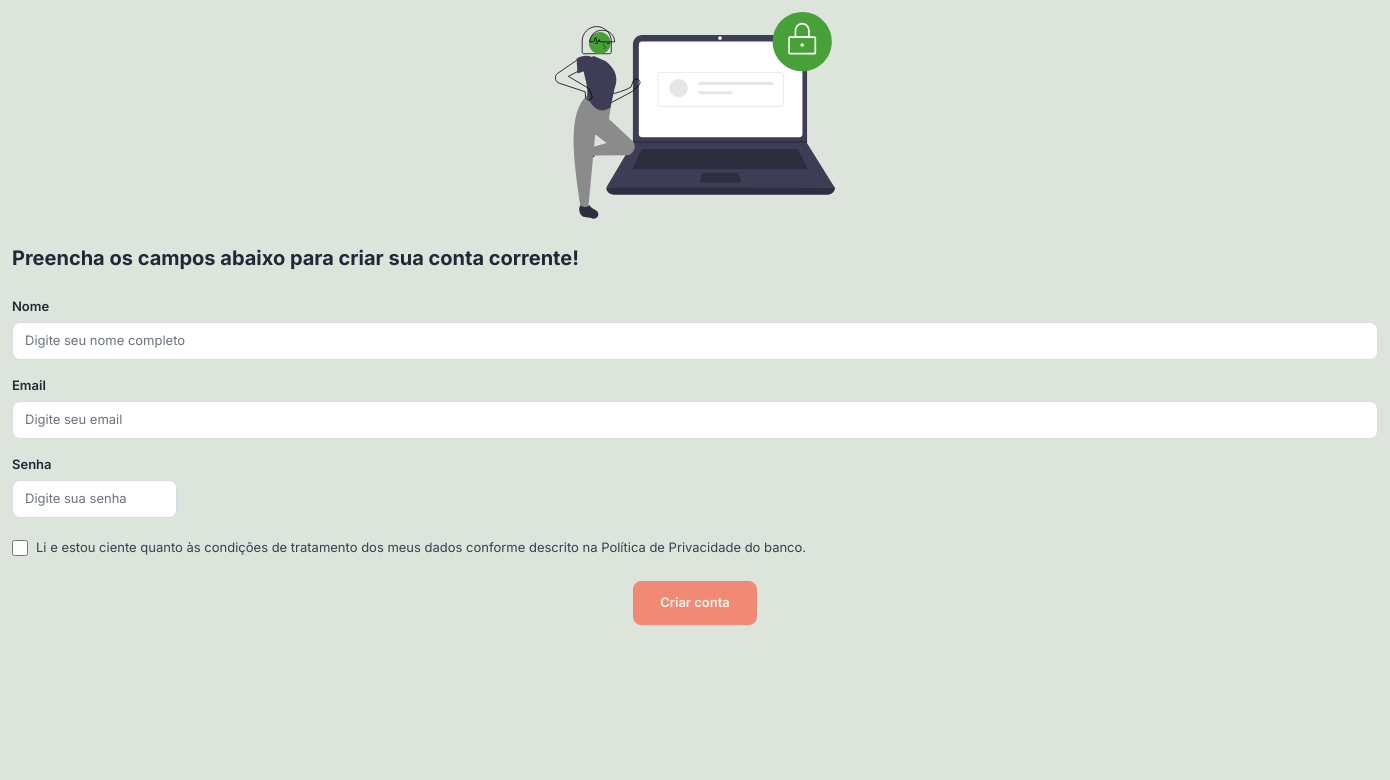
Test case: RegisterForm › envia register e mostra feedback de sucesso da API
The image size is (1390, 780).
In the field labelled "Nome": (695, 341) [12,322,1378,360], type "Maria Silva"
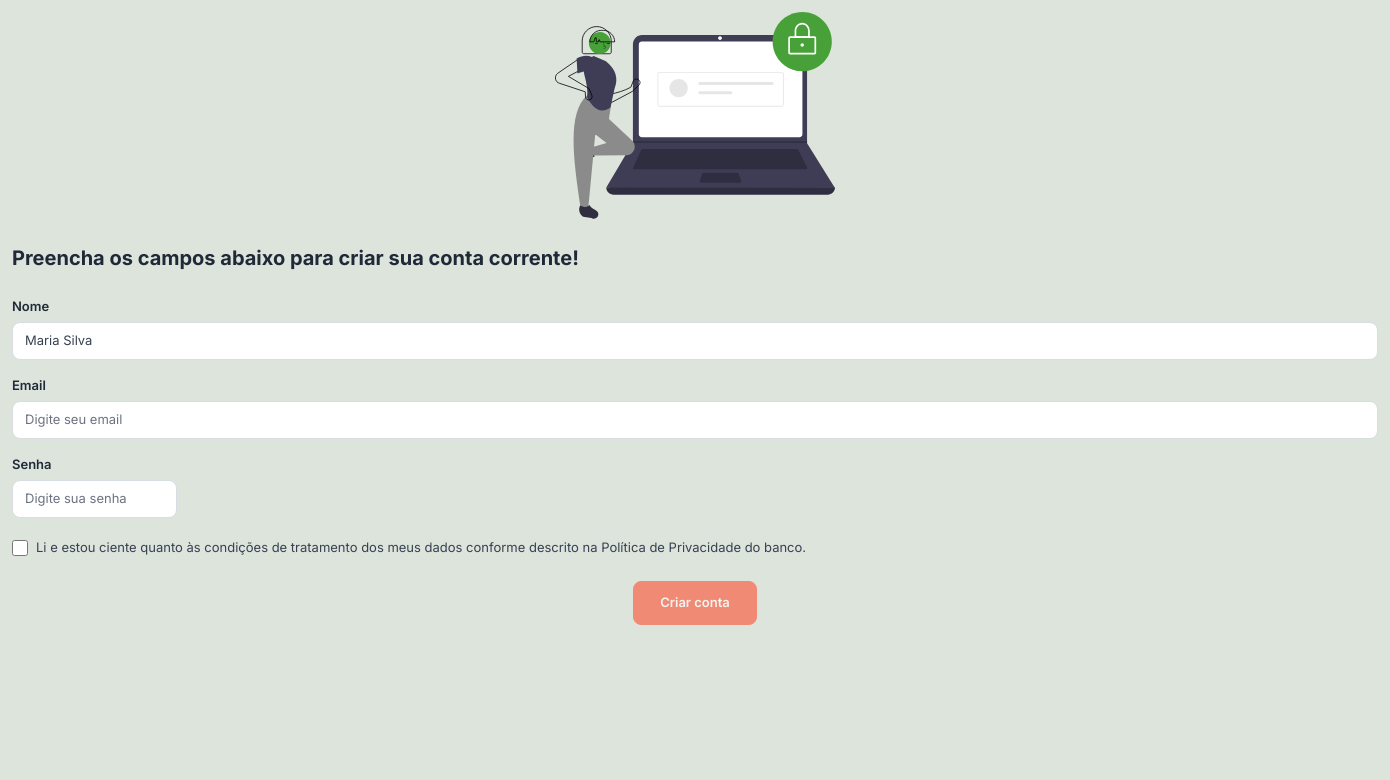
In the field labelled "Email": (695, 420) [12,401,1378,439], type "maria@mail.com"
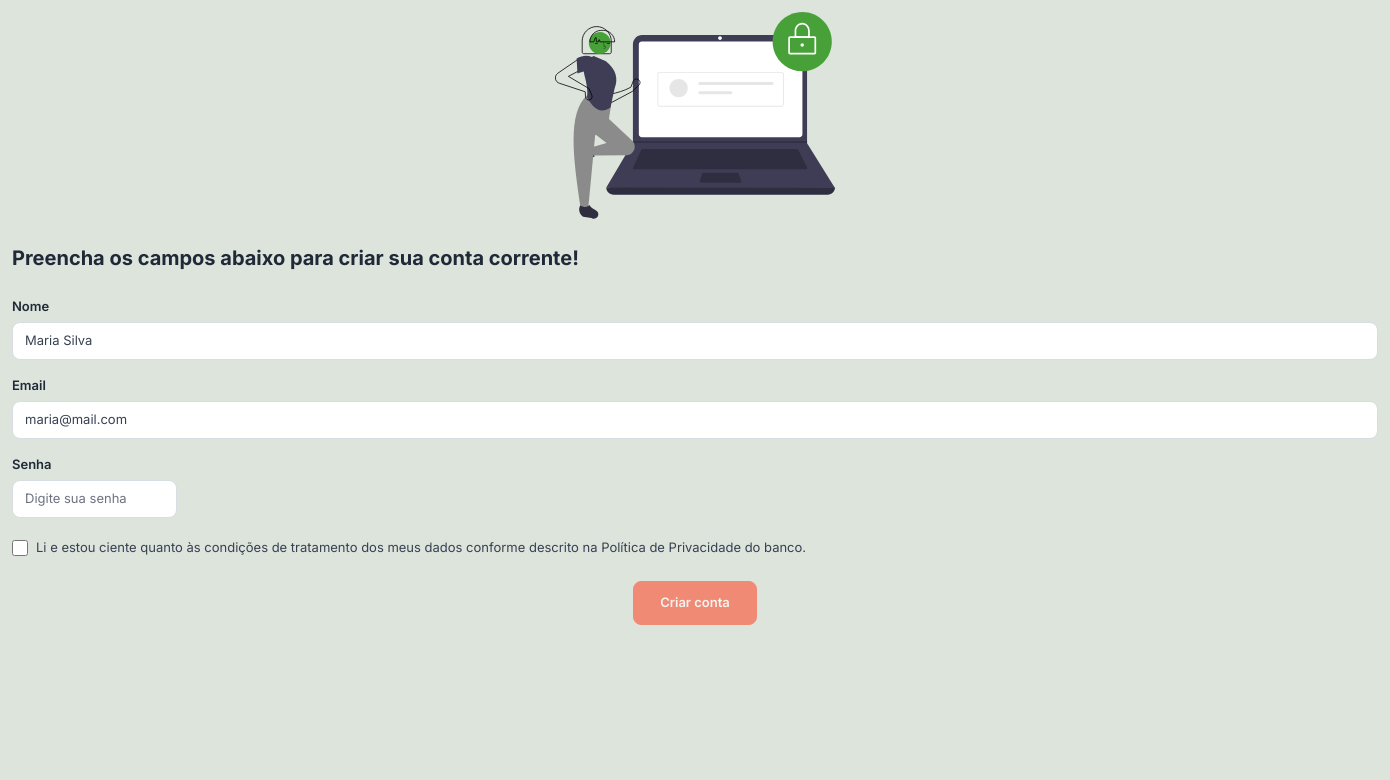
In the password field labelled "Senha": (94, 499) [12,480,177,518], type "12345678"
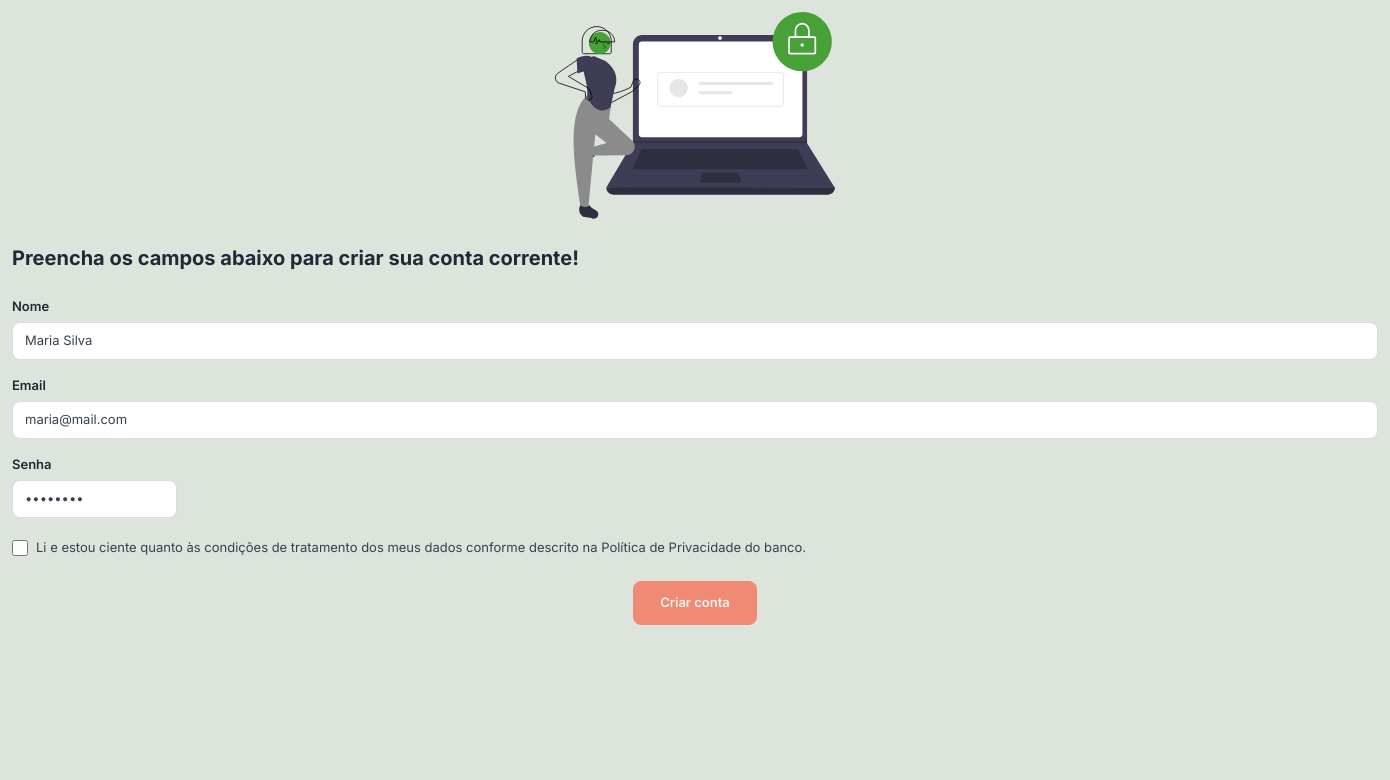
Click the checkbox: (20, 548) [12,540,28,556]
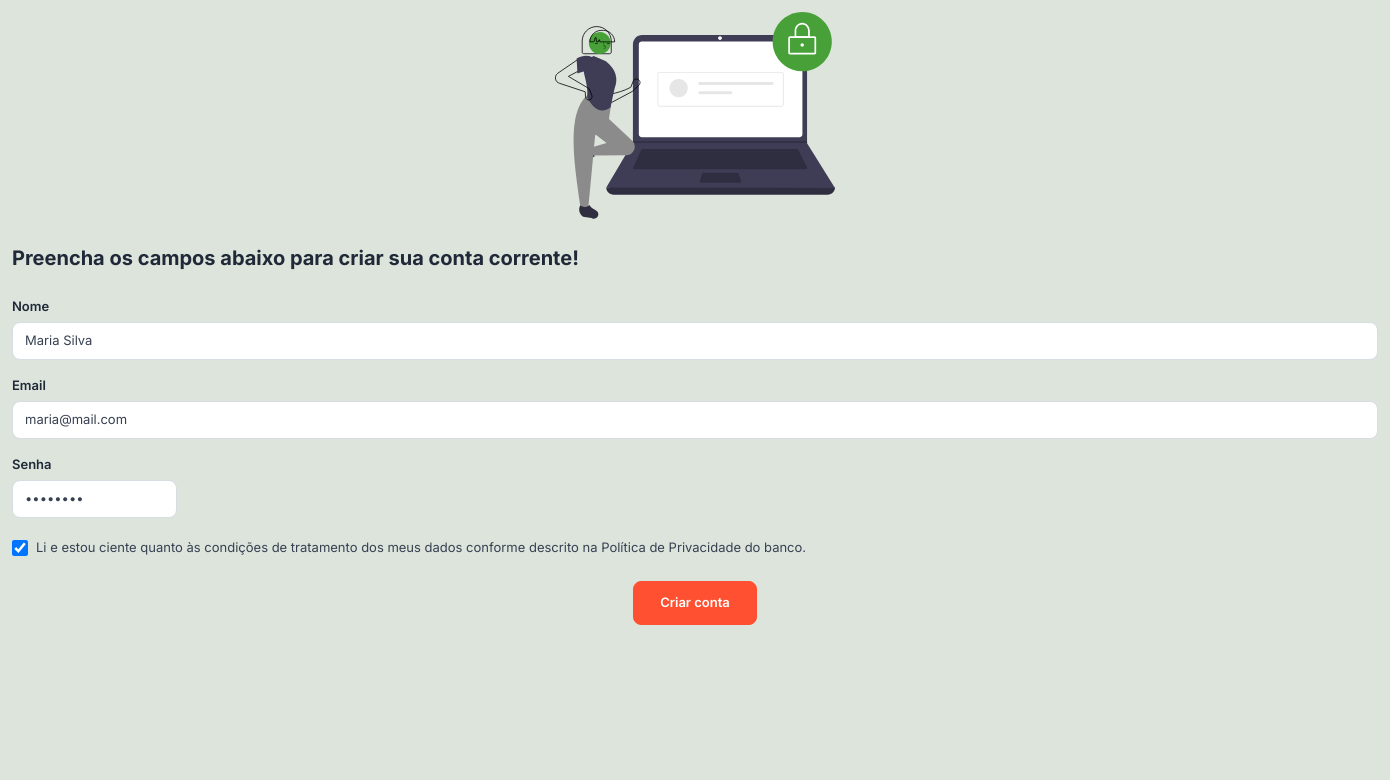
Click the button "Criar conta": (695, 603) [633,581,757,625]
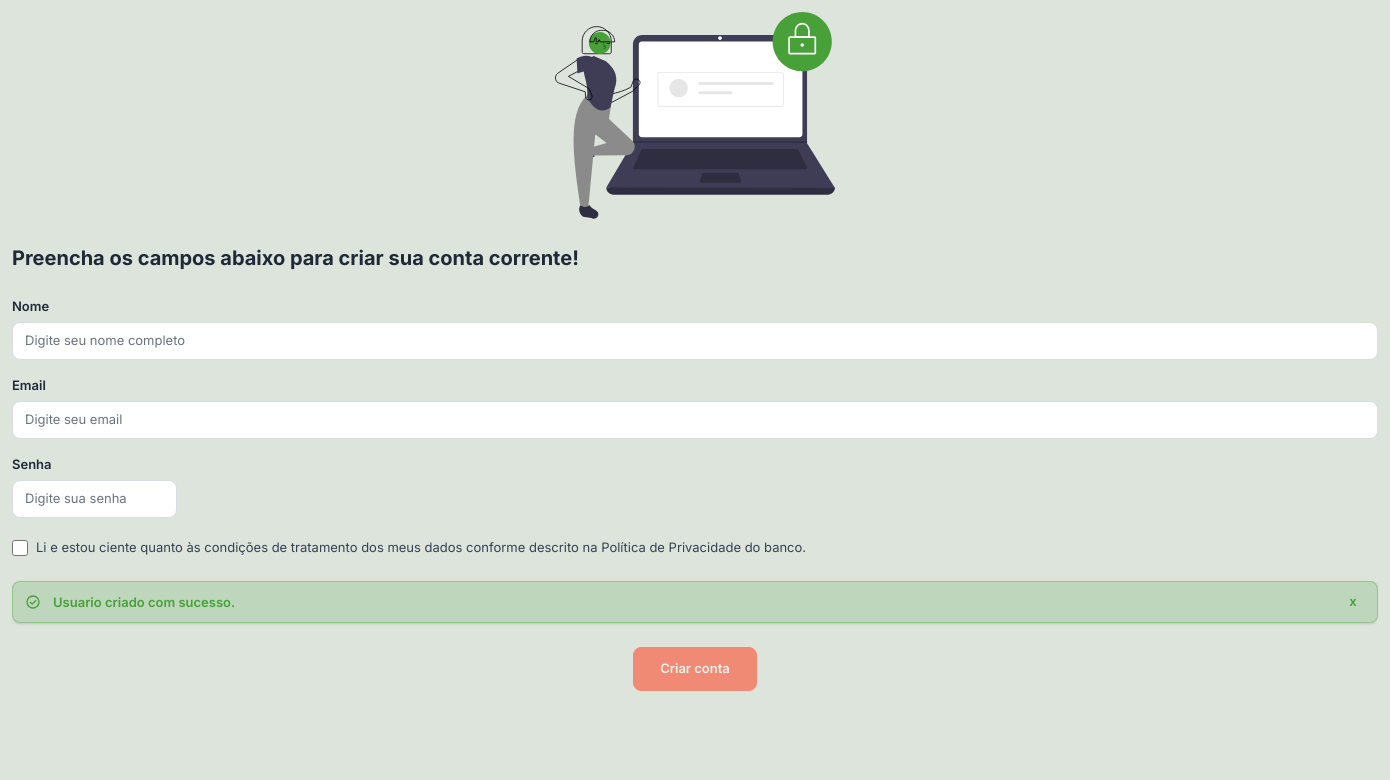
Now the message shows "Usuario criado com sucesso.", box [53,594,235,610]
